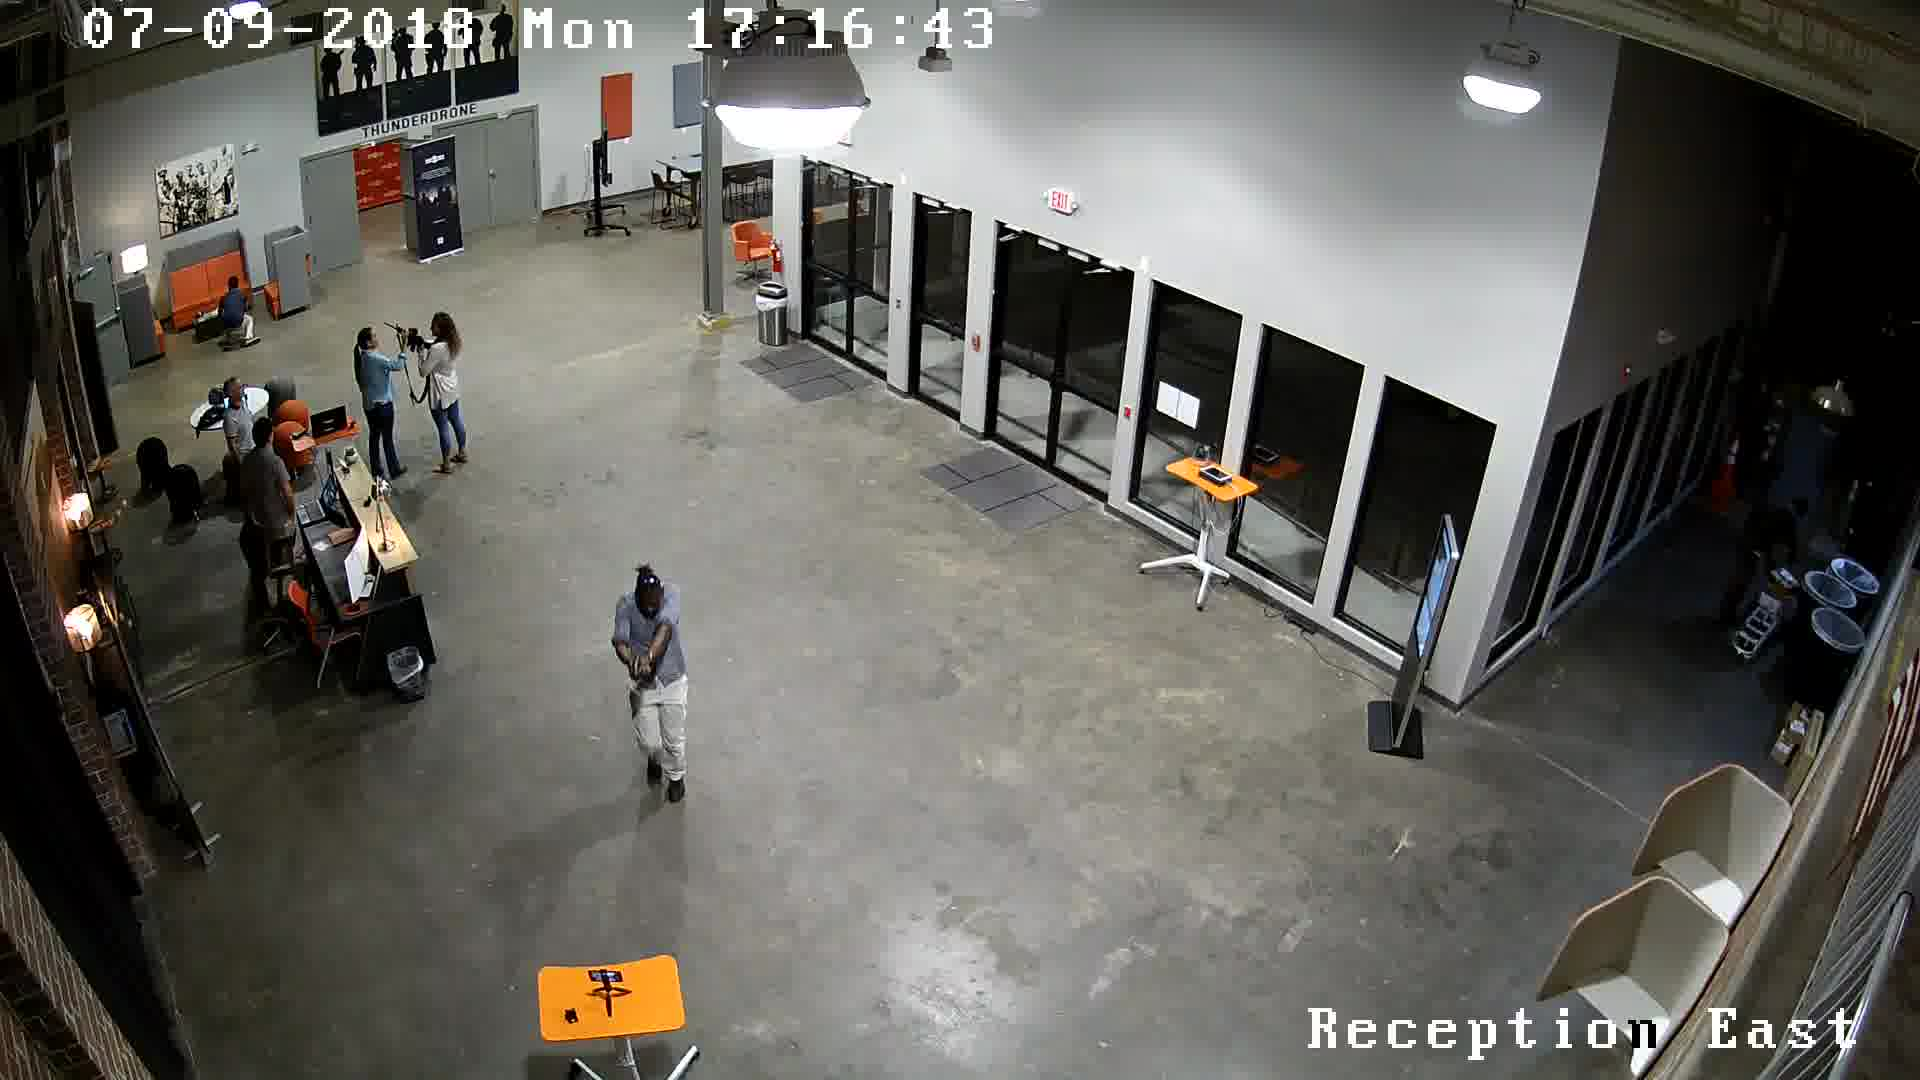pistol: (622, 650, 659, 686)
